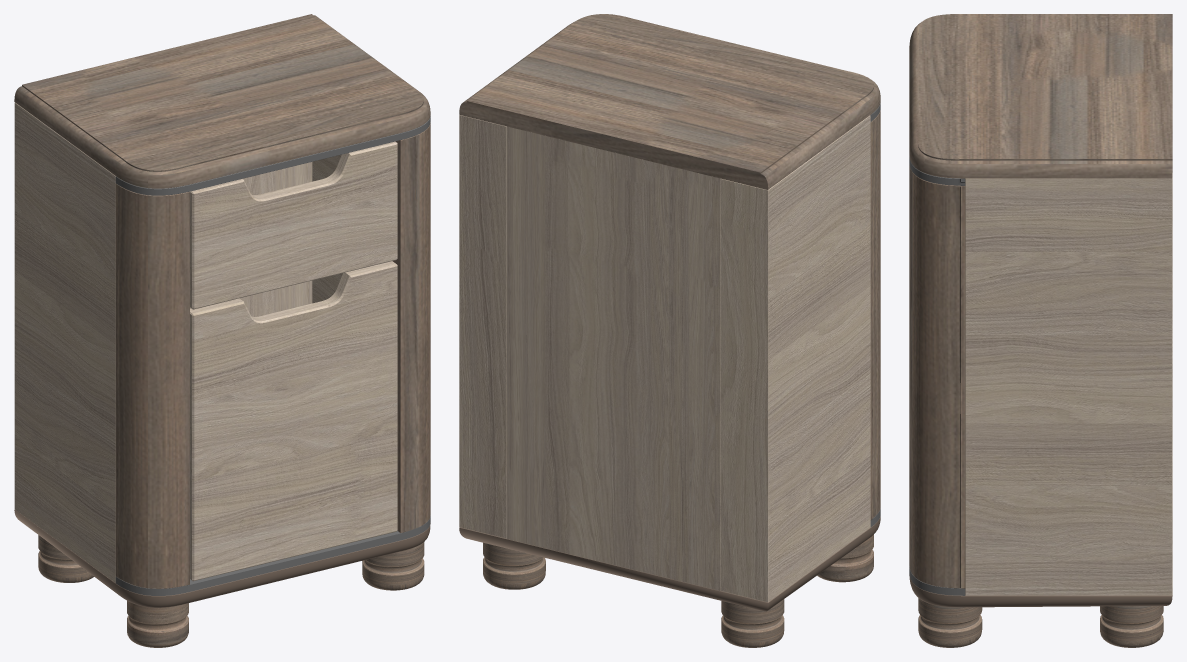
File: cac_aaa-nightstand.glb
3 renders of one model, left to right at view 1: azimuth 30°, elevation 25°; view 2: azimuth 150°, elevation 25°; view 3: azimuth 270°, elevation 25°, orthographic. The views are drawn at different scales.
Visible parts, largest first — view 1: TiroirCom27_bright_0, Line13_dark_0, Box16_bright_0, Object27_dark_0, TiroirCom26_bright_0, Object26_dark_0, Line12_dark_0, Object25_metal_0, Box17_bright_0, Object28_metal_0, Cylinder36_dark_0, Cylinder37_dark_0 (+1 smaller); view 2: Box17_bright_0, Box16_bright_0, Line13_dark_0, Object27_dark_0, Line12_dark_0, Cylinder34_dark_0, Cylinder35_dark_0, Cylinder36_dark_0; view 3: Box16_bright_0, Line13_dark_0, Object26_dark_0, Line12_dark_0, Cylinder37_dark_0, Cylinder35_dark_0, Object25_metal_0, Object28_metal_0.
Boxes of the visible parts, x1,y1,x2,y2 form: TiroirCom27_bright_0: (190, 261, 397, 581); Line13_dark_0: (14, 14, 430, 188); Box16_bright_0: (14, 102, 342, 582); Object27_dark_0: (115, 183, 189, 588); TiroirCom26_bright_0: (190, 141, 397, 309); Object26_dark_0: (392, 122, 430, 532); Line12_dark_0: (14, 509, 430, 607); Object25_metal_0: (115, 515, 430, 595); Box17_bright_0: (190, 162, 312, 316); Object28_metal_0: (115, 115, 430, 195); Cylinder36_dark_0: (127, 600, 188, 647); Cylinder37_dark_0: (362, 542, 424, 590); Box17_bright_0: (507, 126, 720, 590); Box16_bright_0: (459, 115, 870, 602); Line13_dark_0: (459, 14, 880, 189); Object27_dark_0: (870, 110, 880, 519); Line12_dark_0: (459, 516, 880, 611); Cylinder34_dark_0: (721, 599, 784, 647); Cylinder35_dark_0: (483, 542, 545, 589); Cylinder36_dark_0: (817, 534, 873, 582); Box16_bright_0: (965, 173, 1172, 595); Line13_dark_0: (909, 14, 1172, 178); Object26_dark_0: (909, 164, 965, 588); Line12_dark_0: (909, 574, 1172, 607); Cylinder37_dark_0: (918, 598, 982, 647); Cylinder35_dark_0: (1100, 606, 1163, 647); Object25_metal_0: (909, 566, 965, 595); Object28_metal_0: (909, 157, 965, 185).
Size of the model in its own units: 0.4518 by 0.6783 by 0.3298.
Materials: 3 (2 with a texture image).
